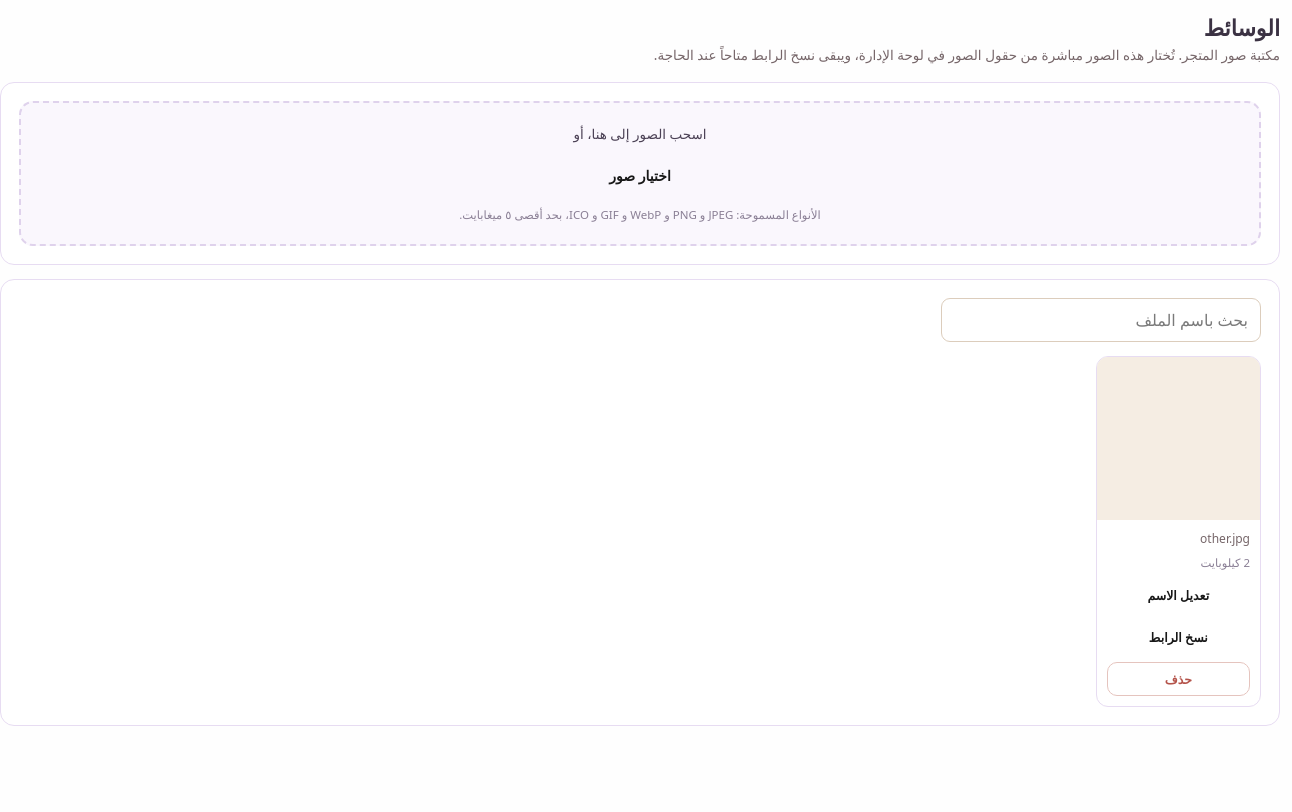
Test: admin bulk media upload › searches the library and clearing restores the full list
The width and height of the screenshot is (1292, 812).
Expected: the text "اسحب الصور إلى هنا، أو" is shown, [573,125,707,143]
Type "VST" into the search field labelled "بحث باسم الملف" at point(1101, 320), box [941,298,1261,342]
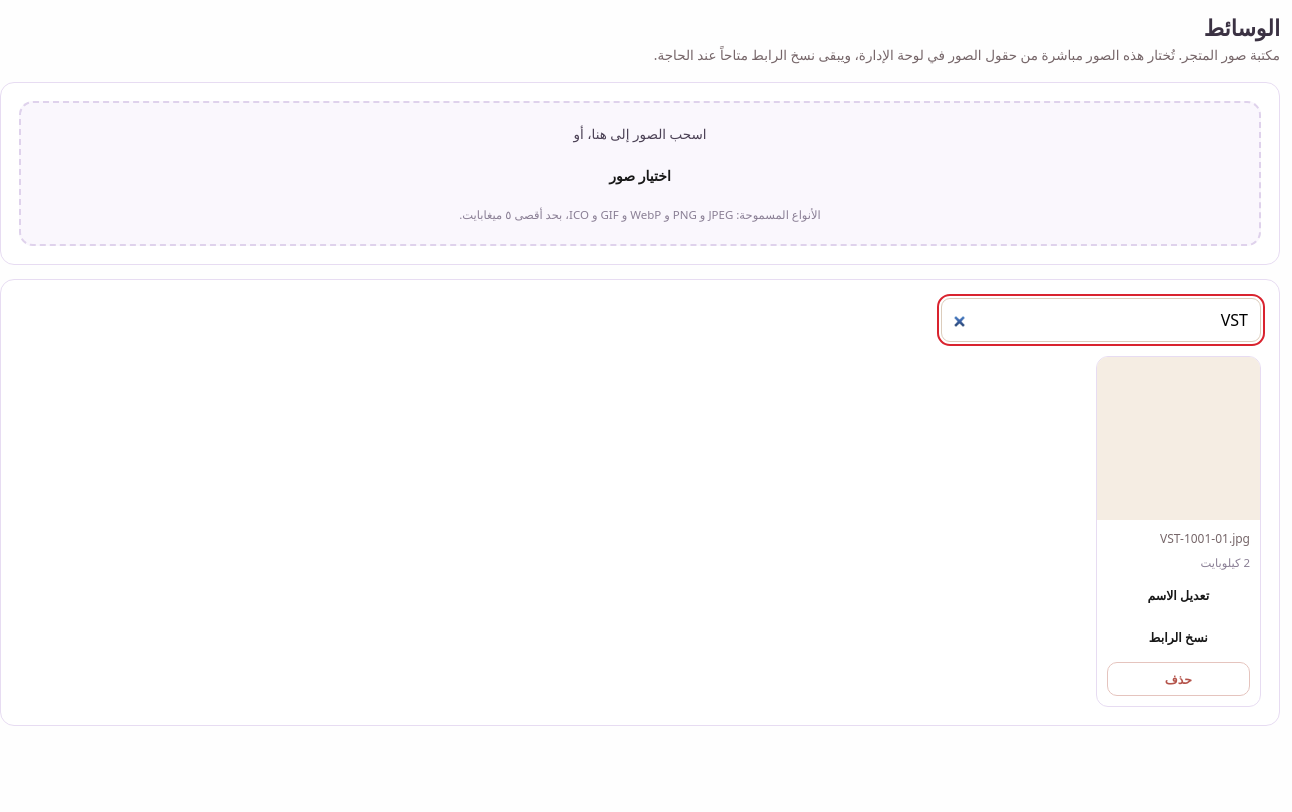
Expected: the text "VST-1001-01.jpg" is shown, [1160,530,1250,547]
Clear the search field named "بحث باسم الملف" at point(1101, 320), box [941,298,1261,342]
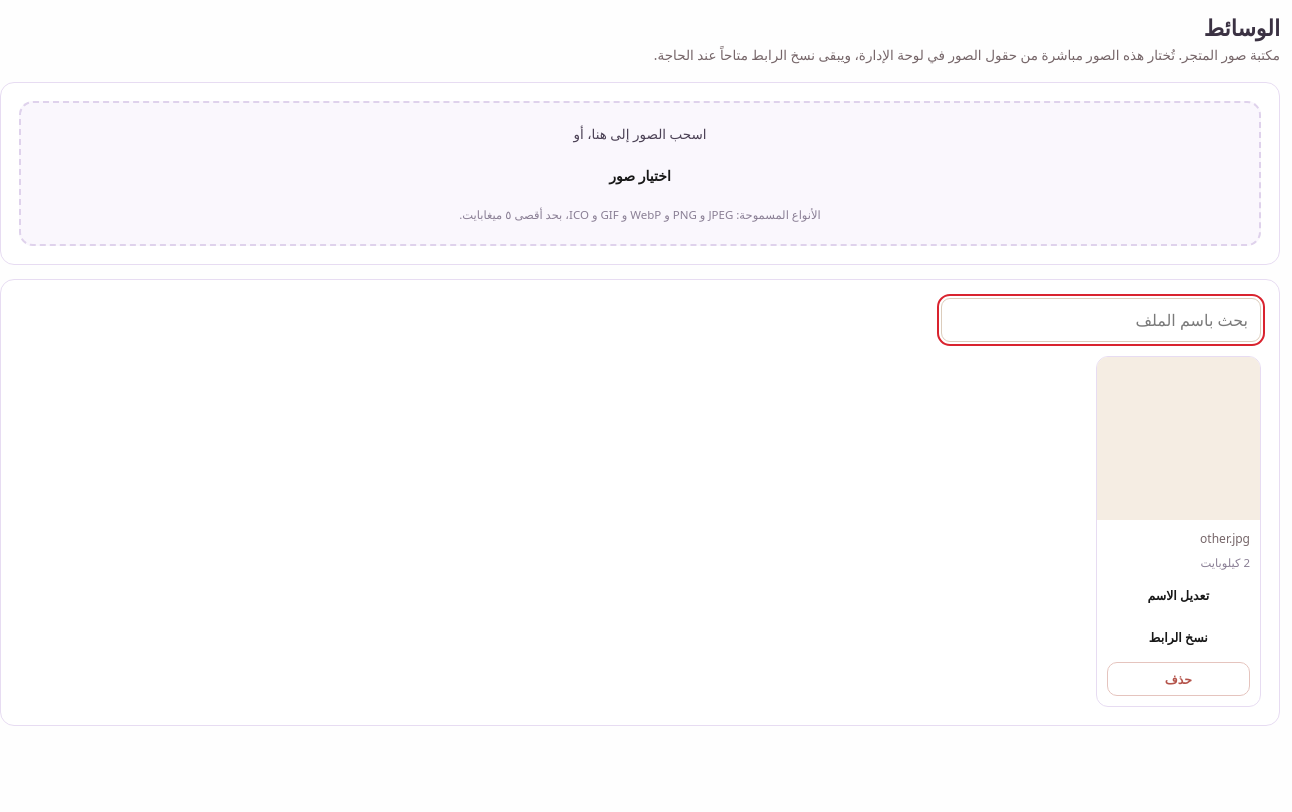
Expected: the text "other.jpg" is shown, [1200,530,1250,547]
